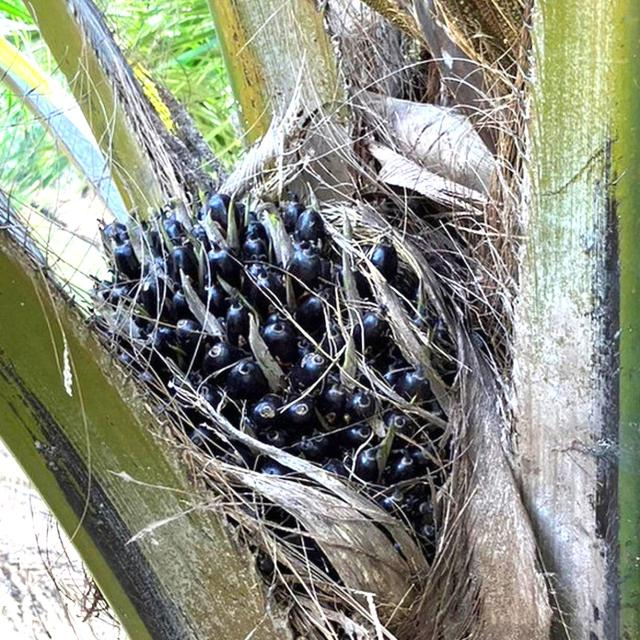unripe: (99, 206, 437, 574)
